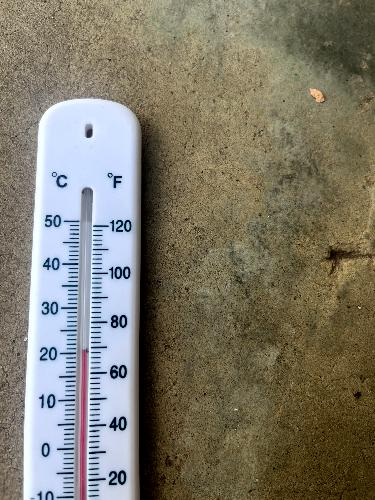thermo: (23, 101, 154, 500)
